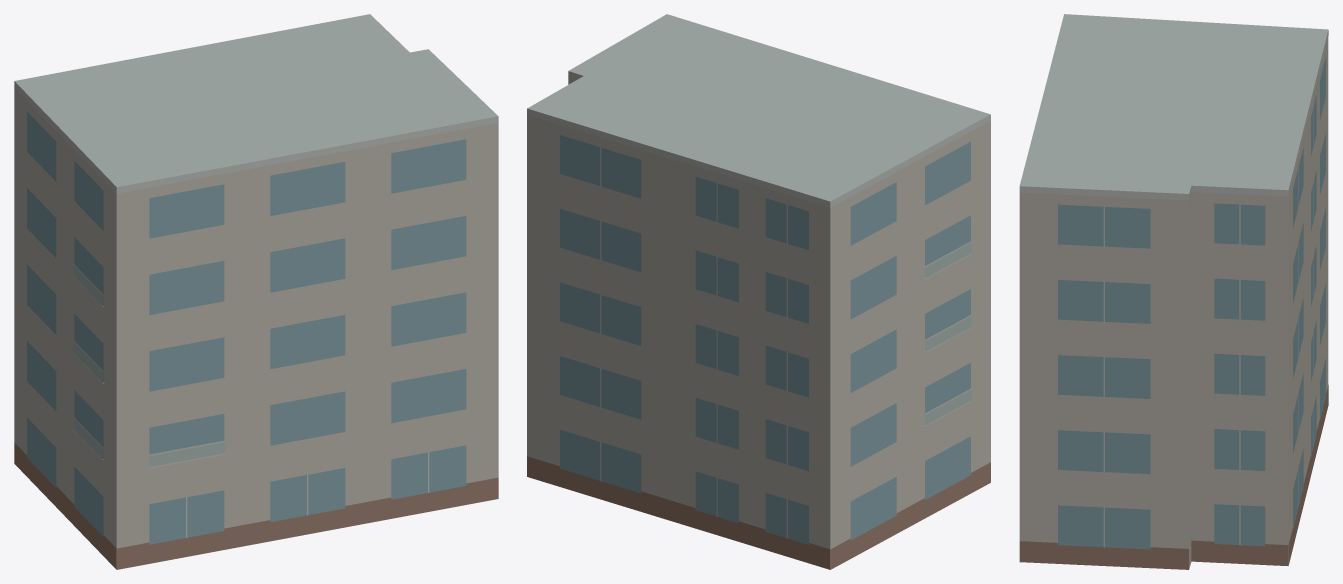
The model's file is survey-upis-32683265.glb.
The picture shows the model from 3 angles, left to right: view 1: azimuth 30°, elevation 25°; view 2: azimuth 150°, elevation 25°; view 3: azimuth 270°, elevation 25°; orthographic projection. The views are drawn at different scales.
Parts seen in each view (by area): view 1: survey-upis-32683265.tmp; view 2: survey-upis-32683265.tmp; view 3: survey-upis-32683265.tmp.
Boxes of the visible parts, x1,y1,x2,y2 form: survey-upis-32683265.tmp: (14, 14, 498, 569); survey-upis-32683265.tmp: (527, 14, 990, 569); survey-upis-32683265.tmp: (1019, 14, 1328, 569).
Bounding box in the file's own units: 14.85 × 14.45 × 10.77.
